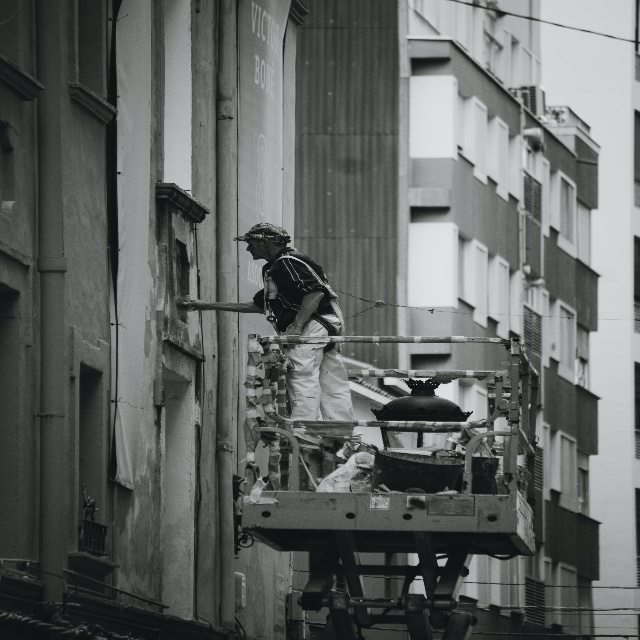Sin_guantes: (182, 295, 202, 311), (280, 325, 300, 336)
